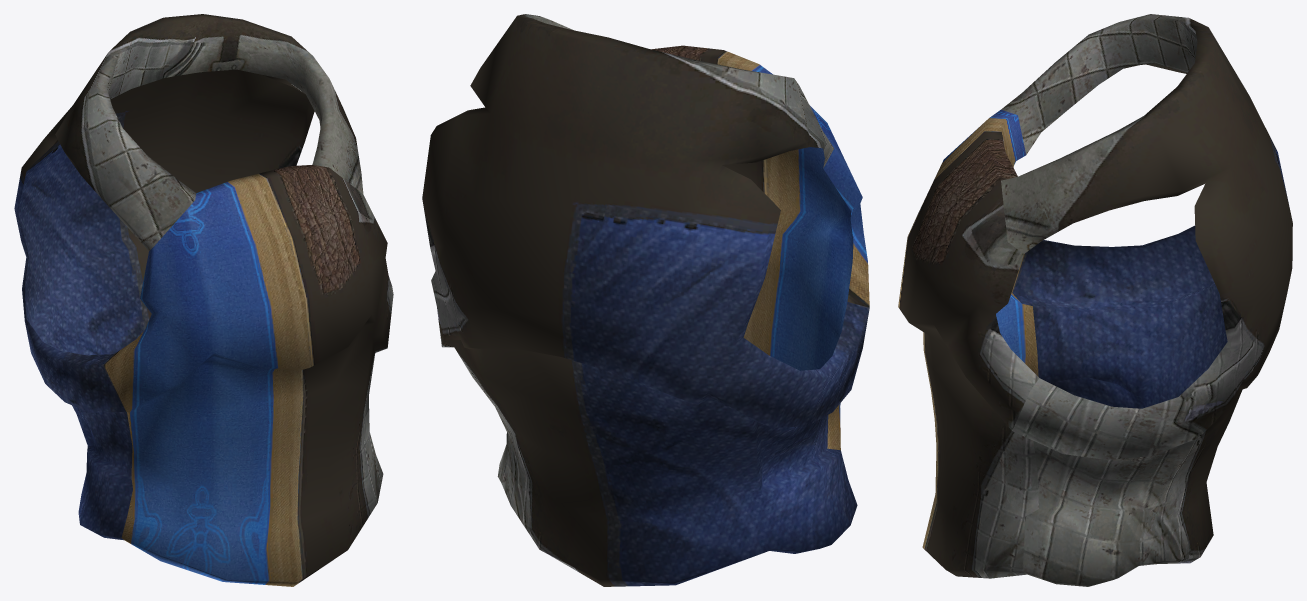
File: NavarraUpper.fbx
3 renders of one model, left to right at view 1: azimuth 30°, elevation 25°; view 2: azimuth 150°, elevation 25°; view 3: azimuth 270°, elevation 25°, orthographic. The views are drawn at different scales.
Visible parts, largest first — view 1: LV_Navarra_Object_Armor02_Upper_SM_KDK; view 2: LV_Navarra_Object_Armor02_Upper_SM_KDK; view 3: LV_Navarra_Object_Armor02_Upper_SM_KDK.
Boxes of the visible parts, left/top/right/bottom form: LV_Navarra_Object_Armor02_Upper_SM_KDK: left=14, top=14, right=393, bottom=586; LV_Navarra_Object_Armor02_Upper_SM_KDK: left=422, top=14, right=869, bottom=586; LV_Navarra_Object_Armor02_Upper_SM_KDK: left=898, top=14, right=1292, bottom=586.
Size of the model in its own units: 7.56 by 10.67 by 7.42.
